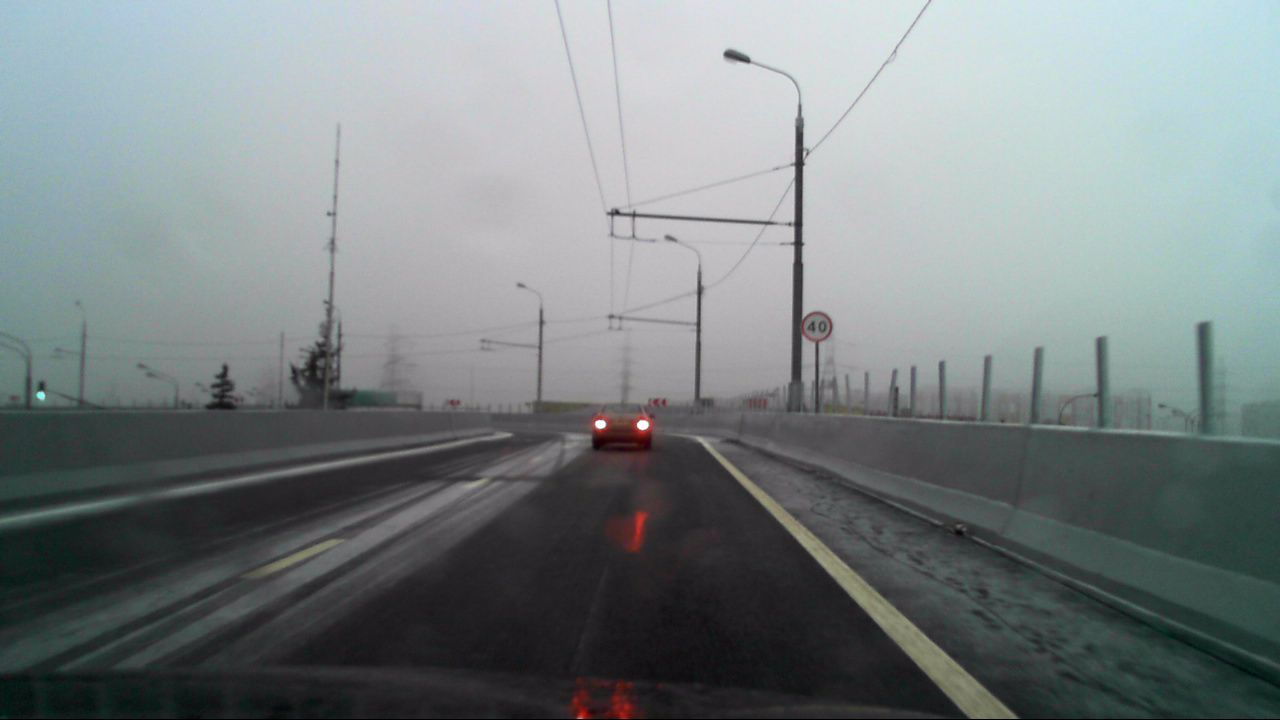speed_warning_40: (802, 310, 833, 342)
